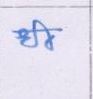i_matra: (35, 19, 55, 50)
